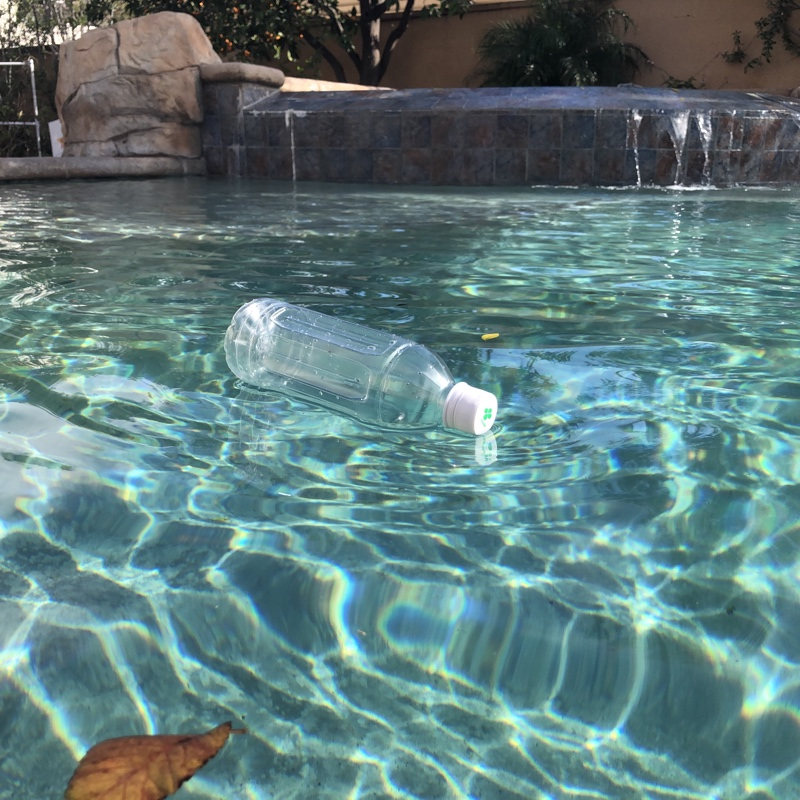Plastic Bottle: (220, 295, 499, 439)
